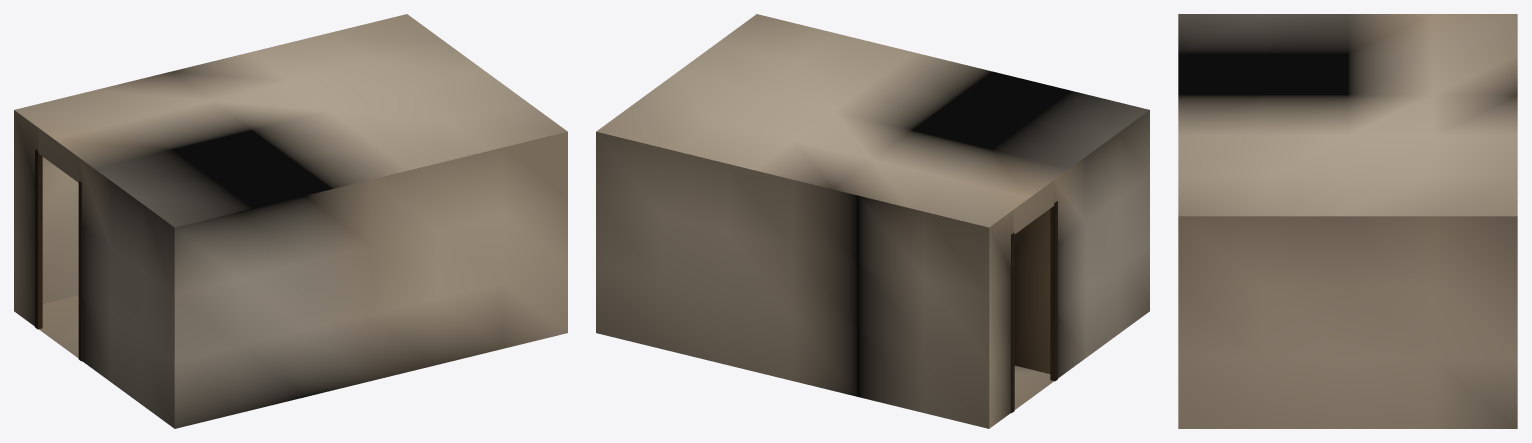
File: kabine_innen.glb
3 renders of one model, left to right at view 1: azimuth 30°, elevation 25°; view 2: azimuth 150°, elevation 25°; view 3: azimuth 270°, elevation 25°, orthographic. The views are drawn at different scales.
Visible parts, largest first — view 1: kr_wand, kr_decke, kr_holz, kr_teppich_kabine; view 2: kr_wand, kr_decke, kr_holz_hell, kr_holz, kr_teppich_kabine; view 3: kr_wand, kr_decke.
Part boxes in pixels (x1,y1,x2,y2): kr_wand: [14, 110, 567, 428]; kr_decke: [14, 14, 567, 227]; kr_holz: [35, 149, 81, 361]; kr_teppich_kabine: [39, 295, 78, 358]; kr_wand: [596, 110, 1149, 428]; kr_decke: [596, 14, 1149, 227]; kr_holz_hell: [1014, 209, 1050, 373]; kr_holz: [1011, 201, 1057, 413]; kr_teppich_kabine: [1014, 365, 1053, 409]; kr_wand: [1178, 216, 1517, 428]; kr_decke: [1178, 14, 1517, 216].
Size of the model in its own units: 4.81 by 2.35 by 3.4.
